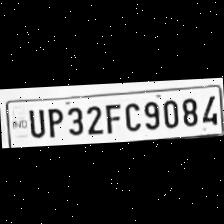0: (160, 94, 180, 128)
2: (82, 100, 104, 134)
3: (63, 102, 84, 136)
4: (198, 89, 220, 125)
8: (178, 92, 198, 125)
9: (140, 96, 160, 128)
C: (120, 97, 140, 130)
F: (102, 99, 120, 133)
P: (44, 103, 63, 137)
U: (24, 104, 46, 136)
